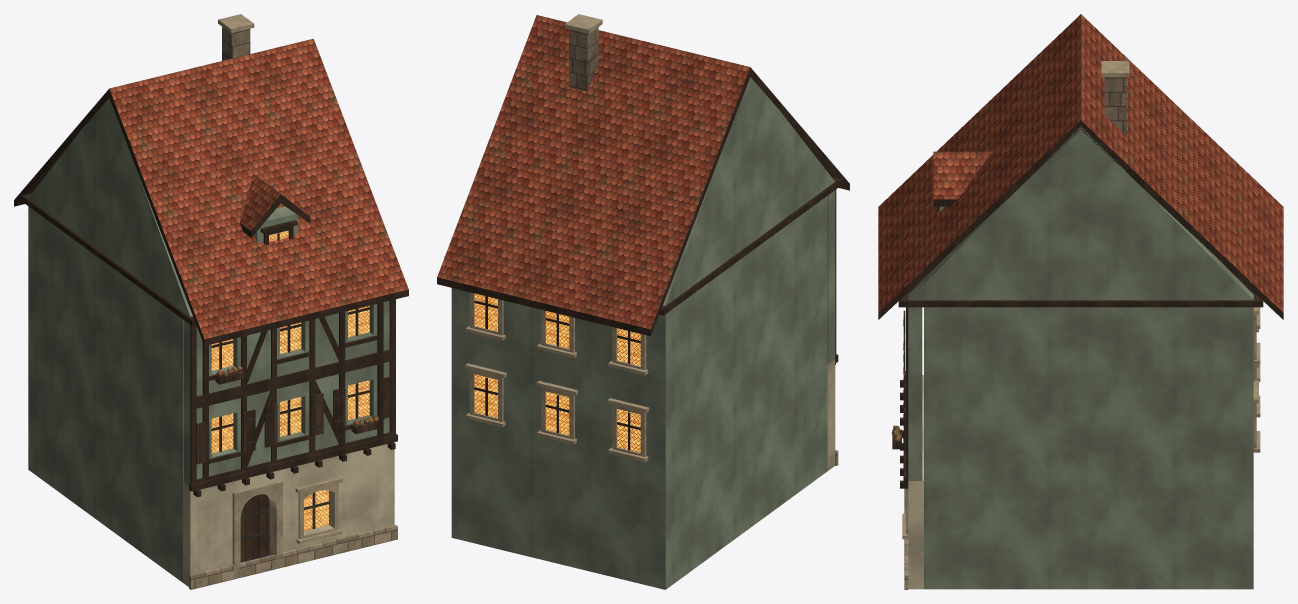
File: house_timber_d.gltf
3 renders of one model, left to right at view 1: azimuth 30°, elevation 25°; view 2: azimuth 150°, elevation 25°; view 3: azimuth 270°, elevation 25°, orthographic. The views are drawn at different scales.
Visible parts, largest first — view 1: house_timber_d_mesh, INT_door_house_timber_d, INT_window_house_timber_d_0, INT_window_house_timber_d_1, INT_window_house_timber_d_2, INT_window_house_timber_d_1_shutter_L, INT_window_house_timber_d_0_shutter_L, INT_window_house_timber_d_1_shutter_R, INT_window_house_timber_d_2_shutter_R, INT_window_house_timber_d_0_shutter_R, INT_window_house_timber_d_2_shutter_L; view 2: house_timber_d_mesh; view 3: house_timber_d_mesh.
Part boxes in pixels (x1,y1,x2,y2): house_timber_d_mesh: (14,14,408,589); INT_door_house_timber_d: (240,494,269,562); INT_window_house_timber_d_0: (211,413,233,453); INT_window_house_timber_d_1: (280,397,301,436); INT_window_house_timber_d_2: (348,380,369,420); INT_window_house_timber_d_1_shutter_L: (264,404,277,447); INT_window_house_timber_d_0_shutter_L: (196,421,209,464); INT_window_house_timber_d_1_shutter_R: (311,393,323,436); INT_window_house_timber_d_2_shutter_R: (379,376,391,419); INT_window_house_timber_d_0_shutter_R: (243,409,255,452); INT_window_house_timber_d_2_shutter_L: (333,387,345,430); house_timber_d_mesh: (437,14,849,589); house_timber_d_mesh: (878,14,1283,589).
Size of what is drawn, in the model's own units: 8.2 by 17.23 by 12.9.
13 materials, 13 textured.
